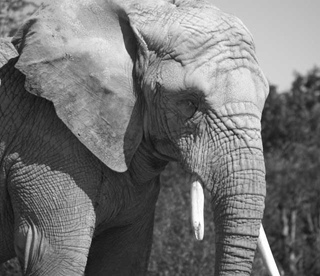elephant: (1, 1, 282, 276)
